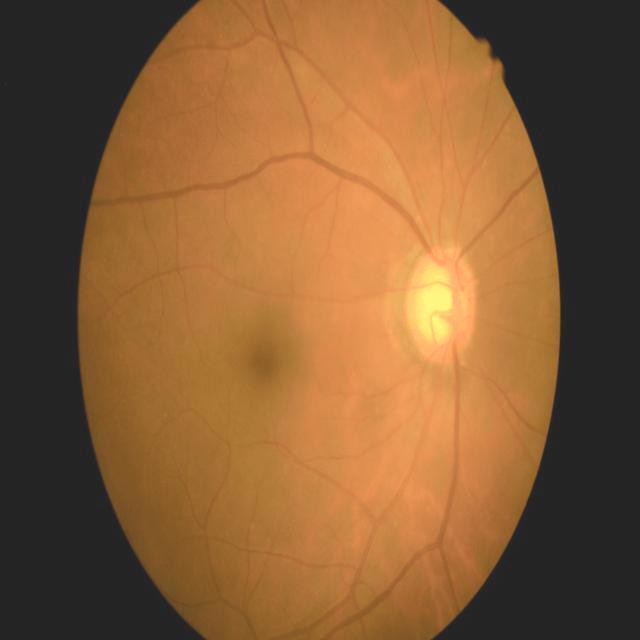cup: (418, 266, 472, 348)
disk: (406, 246, 479, 364)
